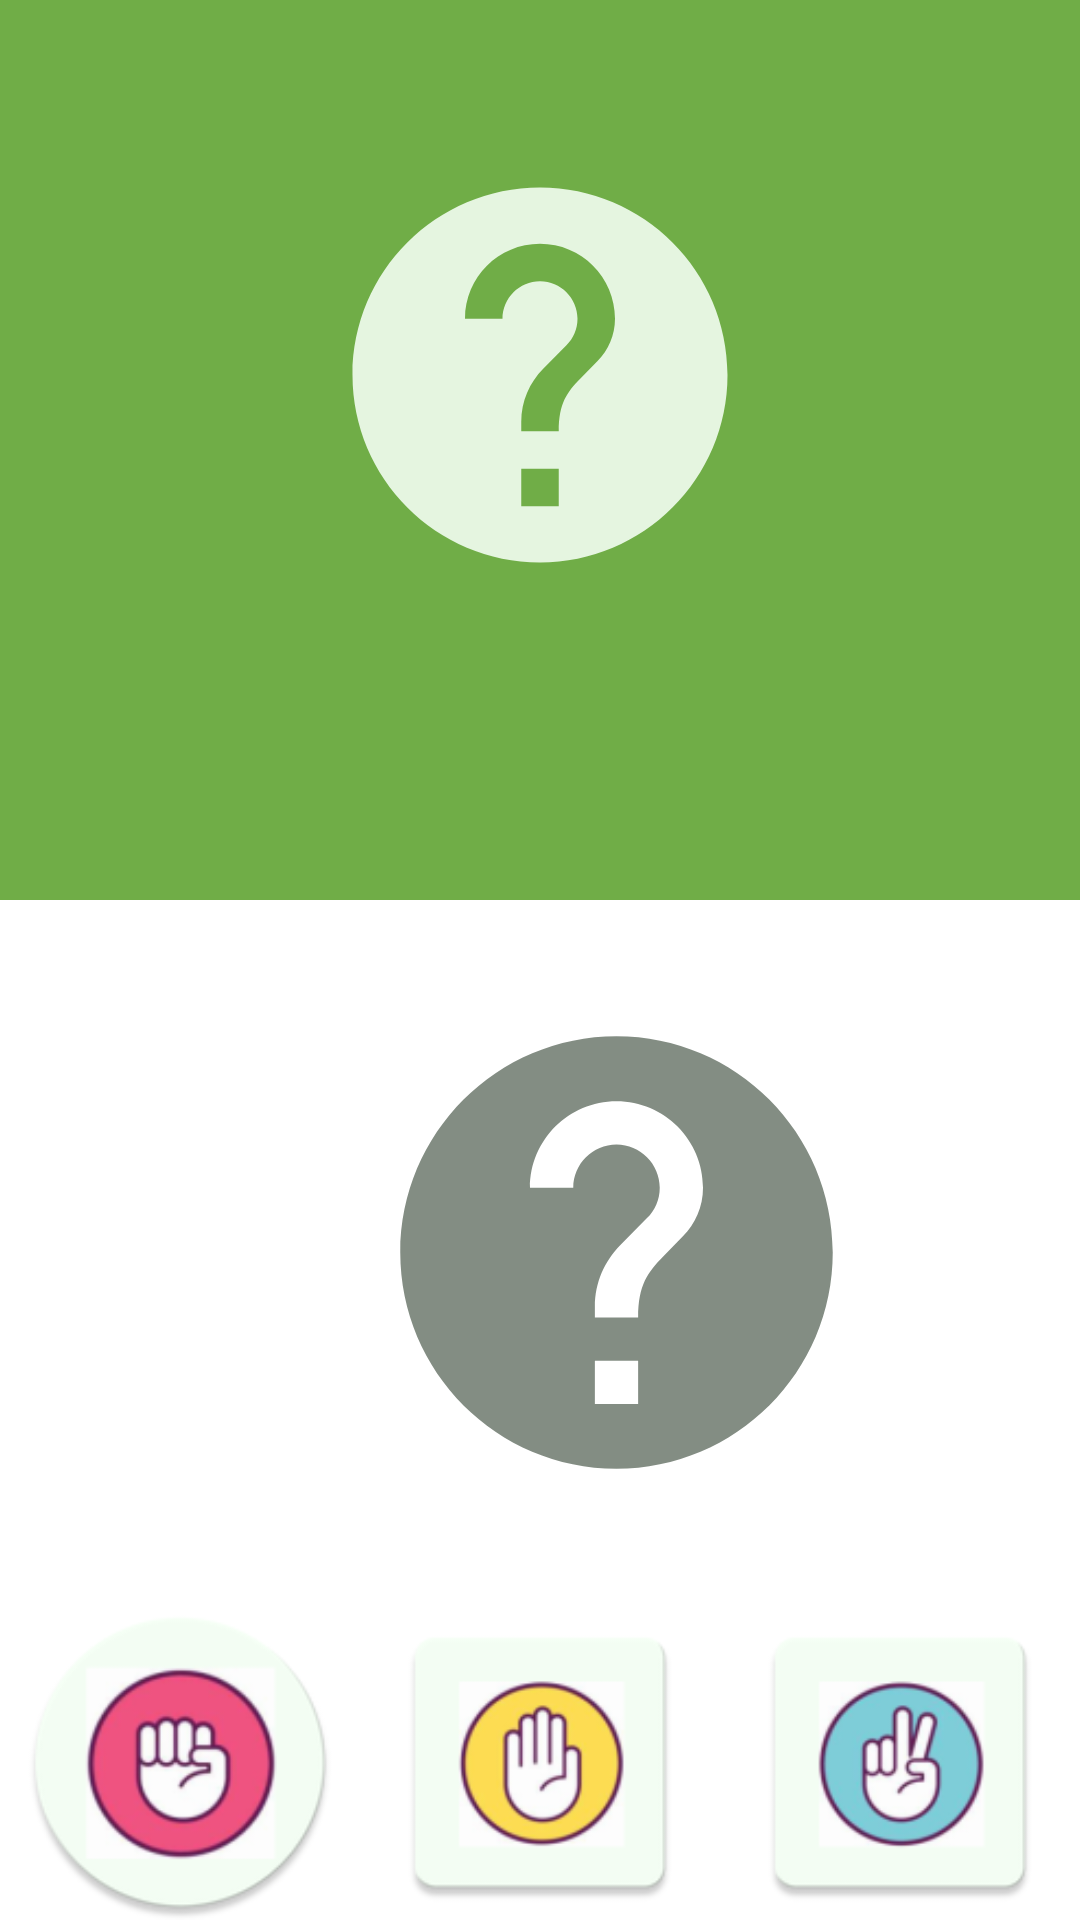

Where to tap for icons on this 1080 × 1920 app screen, as (x,y):
paper: (540,1768)
rock round: (182,1791)
scissors: (900,1768)
